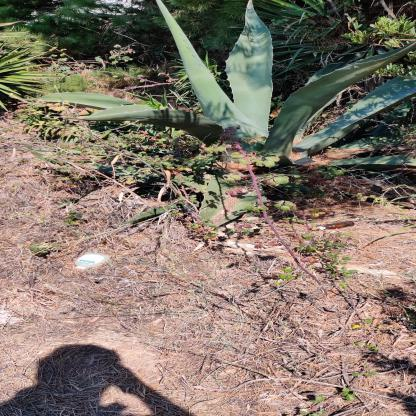plastik: (76, 253, 111, 271), (310, 222, 356, 232)
